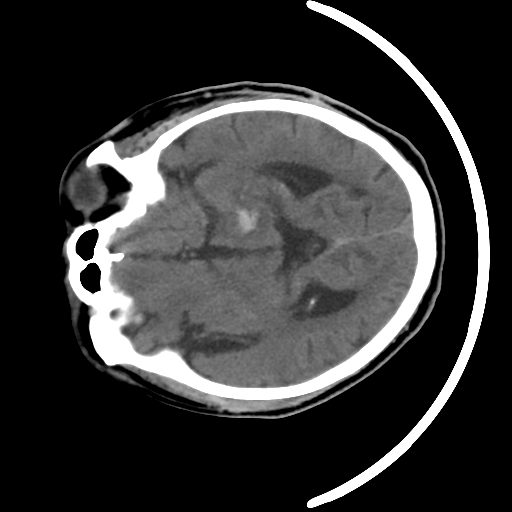a: (217, 189, 276, 249)
